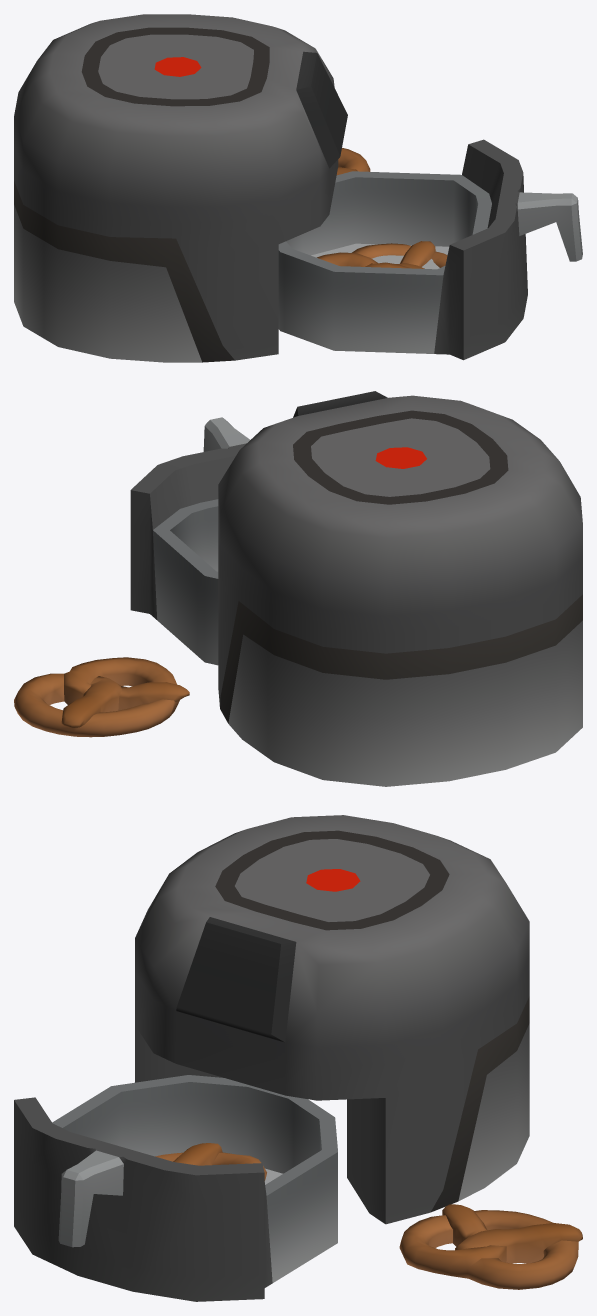
Rendered from Station Pretzel.fbx.
The picture shows the model from 3 angles, top to bottom: view 1: azimuth 30°, elevation 25°; view 2: azimuth 150°, elevation 25°; view 3: azimuth 270°, elevation 25°; orthographic projection. The views are drawn at different scales.
Visible parts, largest first — view 1: Station_Pretzel; view 2: Station_Pretzel; view 3: Station_Pretzel.
Part boxes in pixels (left/top/right/bottom): Station_Pretzel: left=14, top=14, right=582, bottom=362; Station_Pretzel: left=14, top=391, right=582, bottom=786; Station_Pretzel: left=14, top=815, right=582, bottom=1301.
Bounding box in the file's own units: 184 × 92.04 × 179.
